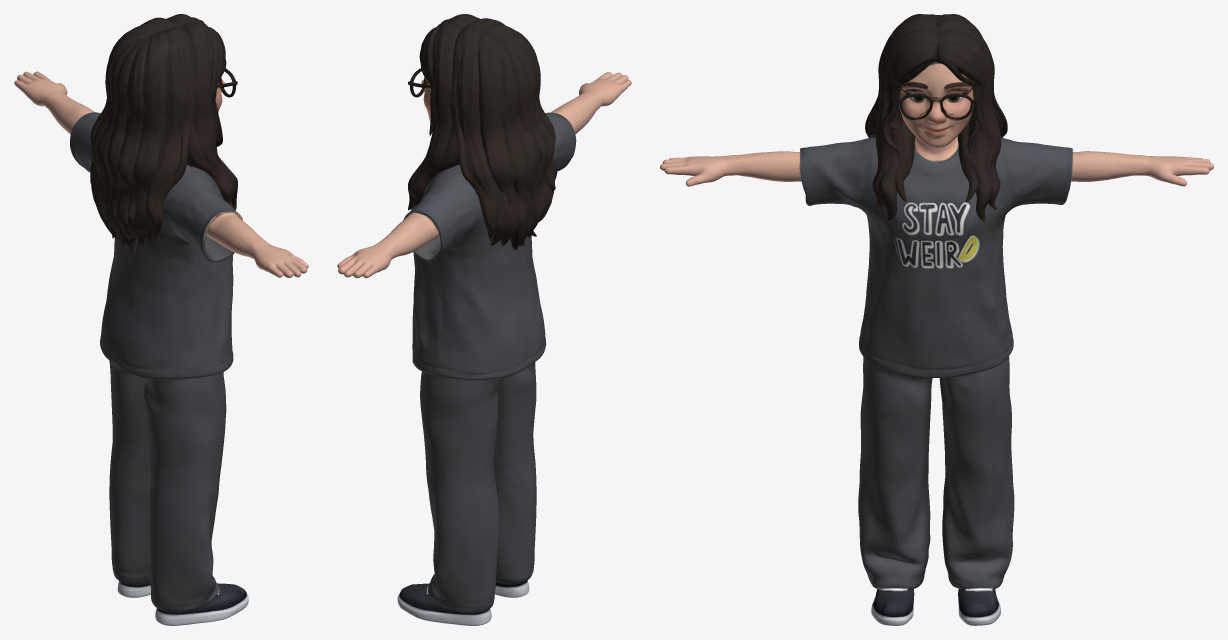
Rendered from avatar_new.glb.
3 renders of one model, left to right at view 1: azimuth 30°, elevation 25°; view 2: azimuth 150°, elevation 25°; view 3: azimuth 270°, elevation 25°, orthographic.
Visible parts, largest first — view 1: Object_01; view 2: Object_01; view 3: Object_01.
Part boxes in pixels (x1,y1,x2,y2): Object_01: [14, 14, 308, 625]; Object_01: [337, 14, 631, 625]; Object_01: [660, 14, 1213, 625].
Bounding box in the file's own units: 0.3413 × 1.55 × 1.33.
1 material, 1 textured.
